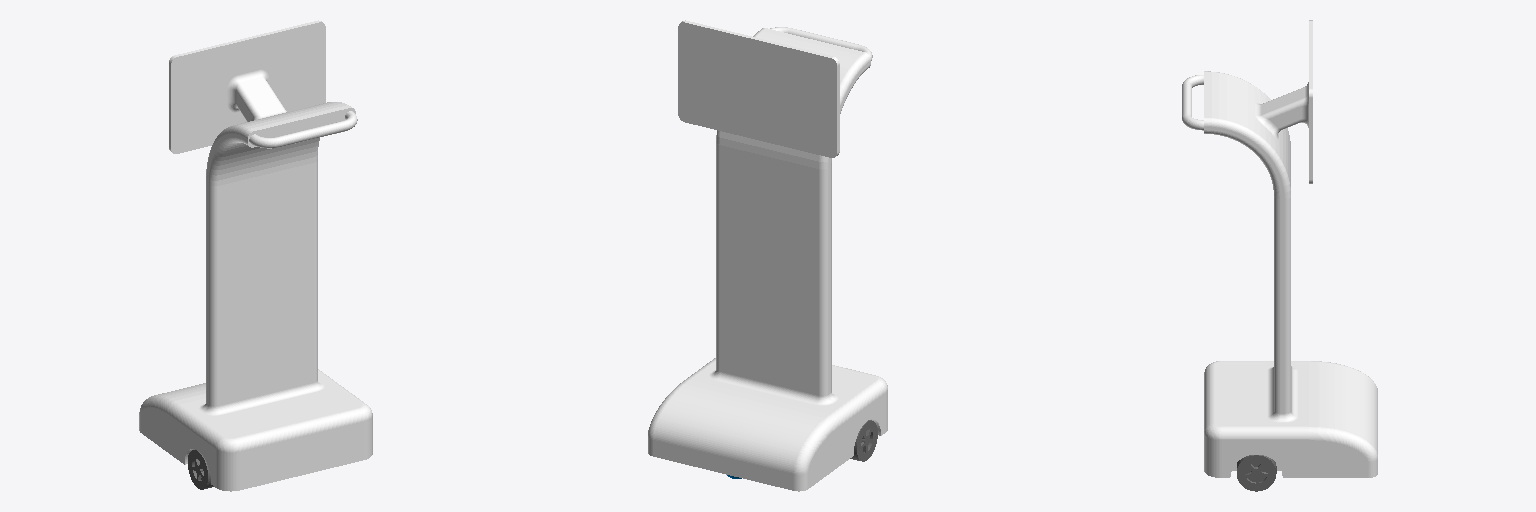
robot.urdf — my-robot:
<?xml version="1.0" ?>
<robot name="my-robot">
  <link name="base_footprint"/>

  <joint name="base_joint" type="fixed">
    <parent link="base_footprint"/>
    <child link="body"/>
    <origin xyz="0 0 0.31" rpy="0 0 0"/>
  </joint>

  <link name="body">
    <inertial>
      <origin xyz="-1.3167e-07 -0.0256451 0.365864" rpy="0 0 0"/>
      <mass value="57.976"/>
      <inertia ixx="8.74891" ixy="-6.69946e-07" ixz="-4.47173e-06" iyy="8.88386" iyz="0.454021" izz="1.73978"/>
    </inertial>

    <visual>
      <origin xyz="2.47419e-17 -0.00293702 0.0425" rpy="0 -0 3.14159"/>
      <geometry>
        <mesh filename="package://hospital_robot/meshes/body.stl"/>
      </geometry>
      <material name="body_material">
        <color rgba="1 1 1 1"/>
      </material>
    </visual>

    <collision>
      <origin xyz="2.47419e-17 -0.00293702 0.0425" rpy="0 -0 3.14159"/>
      <geometry>
        <mesh filename="package://hospital_robot/meshes/body.stl"/>
      </geometry>
    </collision>
  </link>

  <link name="left_wheel">
    <inertial>
      <origin xyz="4.42896e-18 6.87064e-18 0.00300646" rpy="0 0 0"/>
      <mass value="0.465267"/>
      <inertia ixx="0.00047604" ixy="2.68315e-19" ixz="7.20047e-20" iyy="0.00047604" iyz="-5.32996e-35" izz="0.000800321"/>
    </inertial>

    <visual>
      <origin xyz="0 6.93889e-18 0.01" rpy="-0.391796 1.5708 0"/>
      <geometry>
        <mesh filename="package://hospital_robot/meshes/standard_wheel.stl"/>
      </geometry>
      <material name="left_wheel_material">
        <color rgba="0.5 0.5 0.5 1"/>
      </material>
    </visual>

    <collision>
      <origin xyz="0 6.93889e-18 0.01" rpy="-0.391796 1.5708 0"/>
      <geometry>
        <mesh filename="package://hospital_robot/meshes/standard_wheel.stl"/>
      </geometry>
    </collision>
  </link>

  <joint name="left_wheel_joint" type="continuous">
    <origin xyz="-0.23 -0.102937 0.0575" rpy="-1.5708 -0 -1.5708"/>
    <parent link="body"/>
    <child link="left_wheel"/>
    <axis xyz="0 0 -1"/>
    <limit effort="20" velocity="20"/>
  </joint>

  <link name="right_wheel">
    <inertial>
      <origin xyz="2.49079e-18 2.66839e-18 0.00300646" rpy="0 0 0"/>
      <mass value="0.465267"/>
      <inertia ixx="0.00047604" ixy="1.74453e-19" ixz="7.87552e-20" iyy="0.00047604" iyz="-6.1789e-35" izz="0.000800321"/>
    </inertial>

    <visual>
      <origin xyz="0 6.93889e-18 0.01" rpy="0.391796 1.5708 0"/>
      <geometry>
        <mesh filename="package://hospital_robot/meshes/standard_wheel.stl"/>
      </geometry>
      <material name="right_wheel_material">
        <color rgba="0.5 0.5 0.5 1"/>
      </material>
    </visual>

    <collision>
      <origin xyz="0 6.93889e-18 0.01" rpy="0.391796 1.5708 0"/>
      <geometry>
        <mesh filename="package://hospital_robot/meshes/standard_wheel.stl"/>
      </geometry>
    </collision>
  </link>

  <joint name="right_wheel_joint" type="continuous">
    <origin xyz="0.23 -0.102937 0.0575" rpy="1.5708 -0 -1.5708"/>
    <parent link="body"/>
    <child link="right_wheel"/>
    <axis xyz="0 0 1"/>
    <limit effort="20" velocity="20"/>
  </joint>

  <link name="spherical_wheel">
    <inertial>
      <origin xyz="-9.7589e-19 -2.2554e-50 -6.93889e-18" rpy="0 0 0"/>
      <mass value="2.48"/>
      <inertia ixx="0.00179354" ixy="-3.5815e-49" ixz="0" iyy="0.00179354" iyz="0" izz="0.00179354"/>
    </inertial>

    <visual>
      <origin xyz="-2.60237e-18 0 -0.0425" rpy="0 -0 -1.38667e-32"/>
      <geometry>
        <mesh filename="package://hospital_robot/meshes/spherical_wheel.stl"/>
      </geometry>
    </visual>

    <collision>
      <origin xyz="-2.60237e-18 0 -0.0425" rpy="0 -0 -1.38667e-32"/>
      <geometry>
        <mesh filename="package://hospital_robot/meshes/spherical_wheel.stl"/>
      </geometry>
    </collision>
  </link>

  <joint name="joint_spherical_wheel" type="fixed">
    <origin xyz="2.52012e-17 0.172063 0.0425" rpy="0 -0 2.42861e-16"/>
    <parent link="body"/>
    <child link="spherical_wheel"/>
  </joint>

  <gazebo reference="spherical_wheel">
    <mu1>0.0</mu1>
    <mu2>0.0</mu2>
    <material>Gazebo/Grey</material>
  </gazebo>

  <link name="lidar_link"/>
  <joint name="lidar_joint" type="fixed">
      <parent link="body"/>
      <child link="lidar_link"/>
      <origin xyz="0 0 0.5" rpy="0 0 0"/>
  </joint>

  <gazebo reference="lidar_link">
    <sensor type="ray" name="head_hokuyo_sensor">
      <pose>0 0 0 0 0 0</pose>
      <visualize>true</visualize> 
      <update_rate>20</update_rate>
      <ray>
        <scan>
          <horizontal>
            <samples>720</samples>
            <resolution>1</resolution>
            <min_angle>-3.14159</min_angle>
            <max_angle>3.14159</max_angle>
          </horizontal>
        </scan>
        <range>
          <min>0.2</min>
          <max>10.0</max>
          <resolution>0.01</resolution>
        </range>
        <noise>
          <type>gaussian</type>
          <mean>0.0</mean>
          <stddev>0.01</stddev>
        </noise>
      </ray>
      <plugin name="gazebo_ros_head_hokuyo_controller" filename="libgazebo_ros_laser.so">
        <topicName>/scan</topicName>
        <frameName>lidar_link</frameName>
      </plugin>
    </sensor>
  </gazebo>

  <gazebo>
    <plugin name="differential_drive_controller" filename="libgazebo_ros_diff_drive.so">
      <alwaysOn>true</alwaysOn>
      <updateRate>20</updateRate>
      
      <leftJoint>left_wheel_joint</leftJoint>
      <rightJoint>right_wheel_joint</rightJoint>
      
      <wheelSeparation>0.4</wheelSeparation> 
      <wheelDiameter>0.2</wheelDiameter>   
      <wheelTorque>20</wheelTorque>
      <wheelAcceleration>1.0</wheelAcceleration>
      
      <commandTopic>cmd_vel</commandTopic>
      <odometryTopic>odom</odometryTopic>
      <odometryFrame>odom</odometryFrame>
      <robotBaseFrame>base_footprint</robotBaseFrame>
      
      <publishWheelTF>false</publishWheelTF>
      <publishOdomTF>true</publishOdomTF>
      <publishWheelJointState>true</publishWheelJointState>

      <rosDebugLevel>na</rosDebugLevel>
      <odometrySource>world</odometrySource>
      <publishTf>true</publishTf>
    </plugin>
  </gazebo>
</robot>

--- What the picture shows (computed from the rendered views, not written in the file) ---
3 views of the same robot in one strip: view 1: azimuth 30°, elevation 25°; view 2: azimuth 150°, elevation 25°; view 3: azimuth 270°, elevation 25° (orthographic).
Robot: my-robot — 6 links, 5 joints (2 continuous, 3 fixed); root link base_footprint; default pose: every joint at zero.
Links seen in each view (by area): view 1: body, left_wheel; view 2: body, left_wheel; view 3: body, right_wheel.
Link boxes in pixels (x1=…): body: x1=139, y1=20, x2=372, y2=491; left_wheel: x1=188, y1=449, x2=213, y2=489; body: x1=648, y1=20, x2=887, y2=491; left_wheel: x1=850, y1=420, x2=877, y2=461; body: x1=1182, y1=20, x2=1377, y2=477; right_wheel: x1=1237, y1=455, x2=1276, y2=491.
Size in the robot's own frame: 0.5 by 0.565 by 1.27 metres.
Meshes: 3 distinct files referenced, 4 mesh visuals loaded (3 binary STL).
